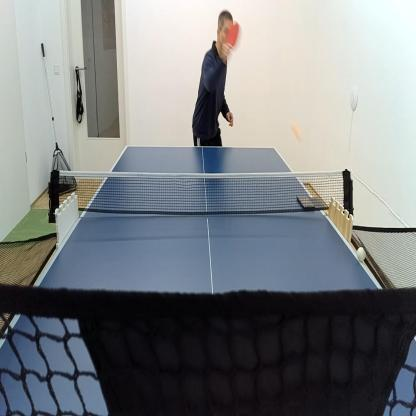Ball: (291, 118, 301, 144), (356, 244, 366, 264)
